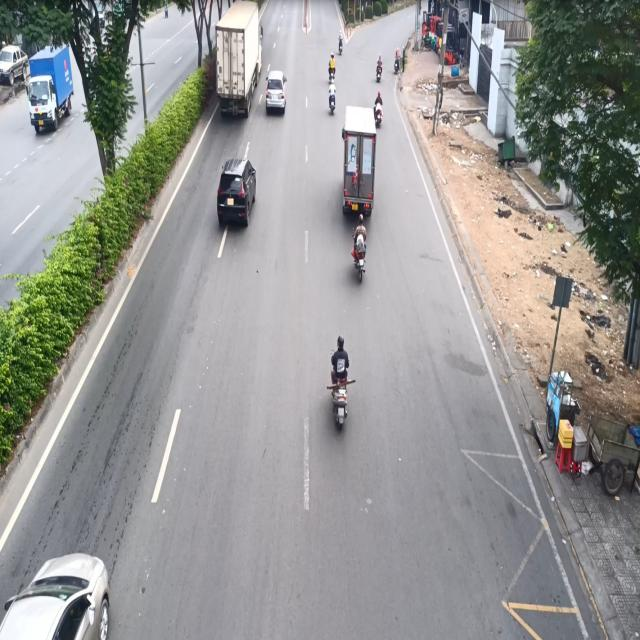car: (2, 535, 110, 640), (215, 145, 258, 238), (266, 68, 286, 114)
motor: (330, 327, 352, 436), (351, 206, 368, 285), (373, 90, 382, 124)
truck: (215, 0, 265, 110), (338, 104, 382, 222)
